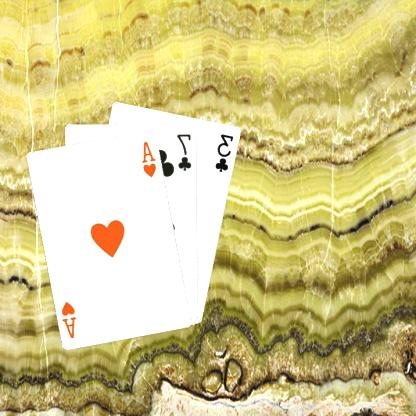3C: (214, 131, 237, 173)
7C: (176, 131, 195, 171)
AH: (140, 138, 160, 178), (61, 299, 80, 339)
